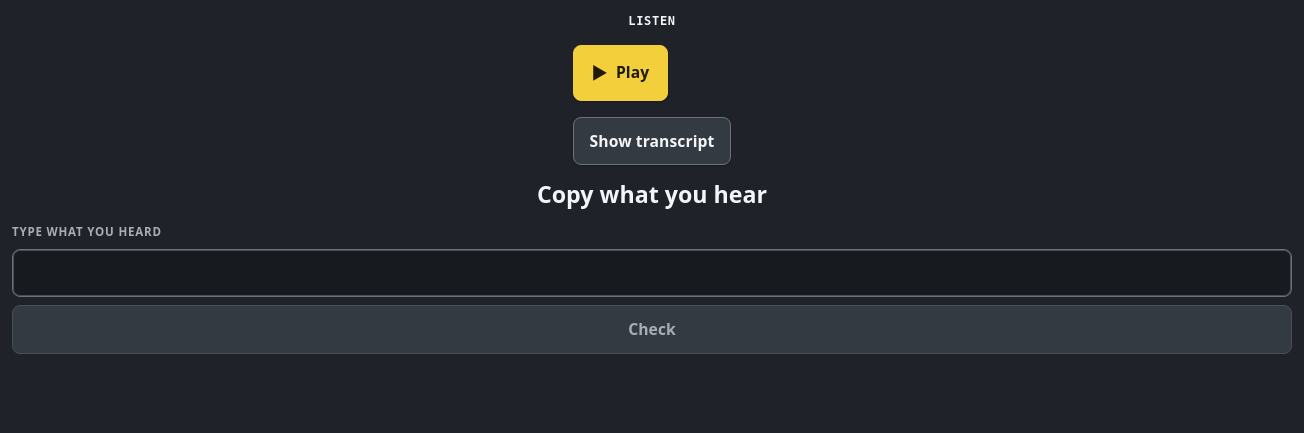
Test: swapping to the next card › starts the next card with the transcript concealed again
Click the button "Show transcript": [652, 141] box [573,117,731,165]
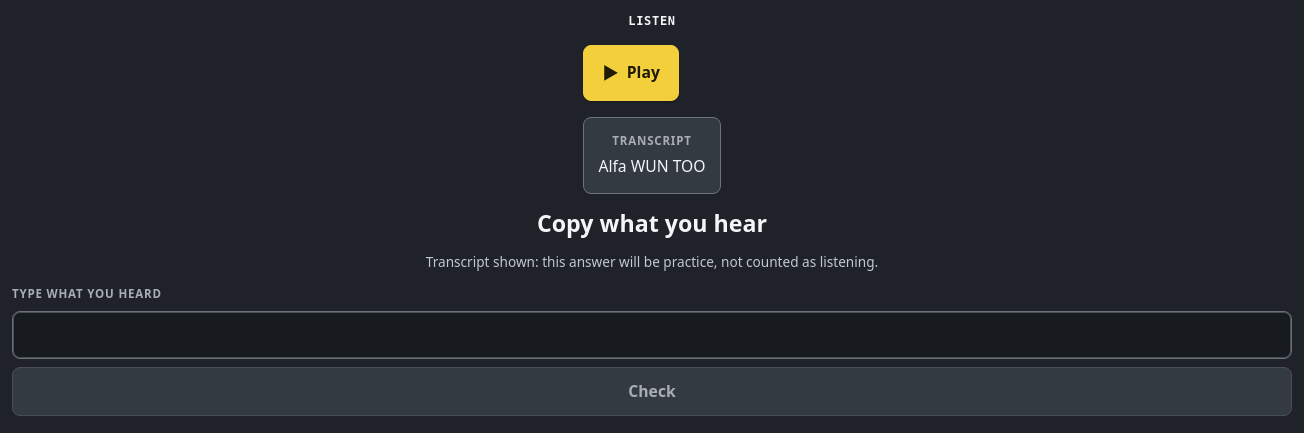
Check: the text "Alfa WUN TOO" is shown, box [598,155,706,179]
